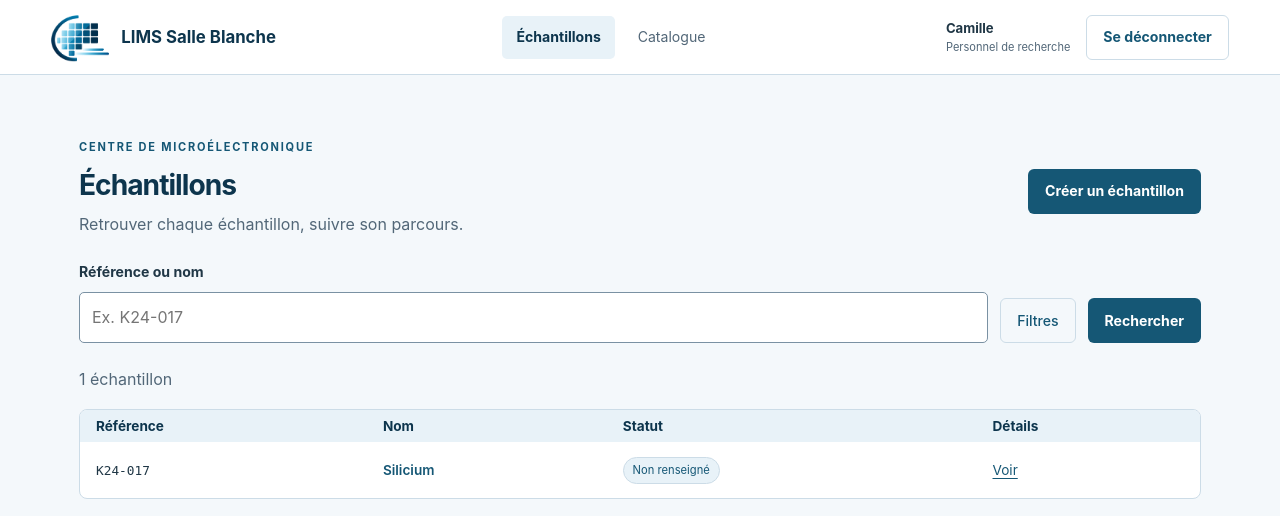
Test case: Gestion des échantillons via le client HTTP authentifié › envoie q encodé, conserve la recherche dans URL et permet de l’effacer
Type " K24 & silicium " into the search field labelled "Référence ou nom". click: coordinates (534, 318)
box: [79,292,988,344]
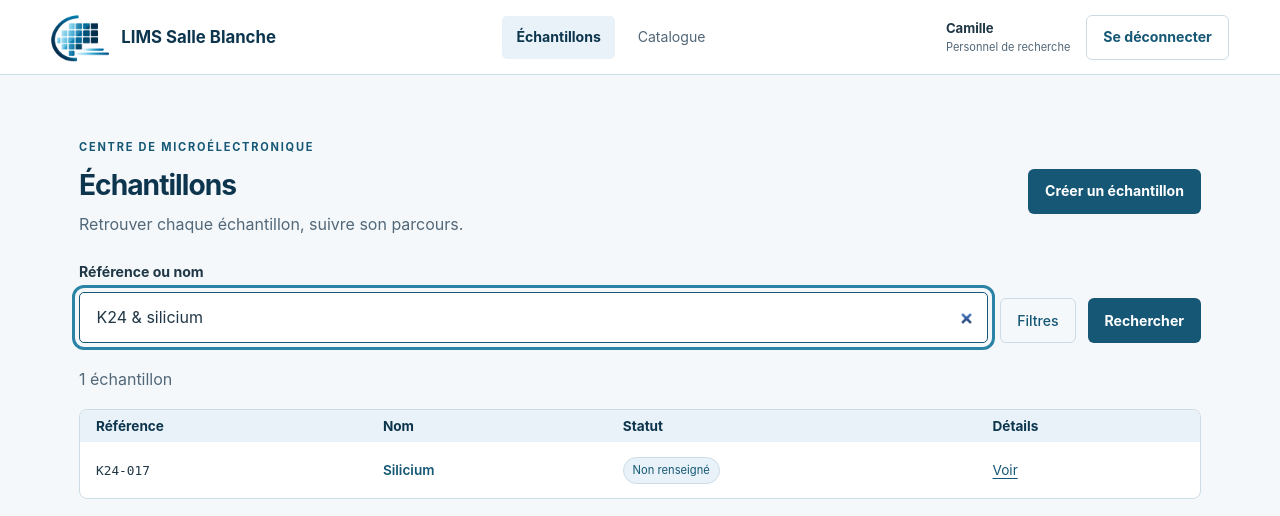
Click the button "Rechercher". click: coordinates (1144, 321)
box: [1088,298,1201,344]
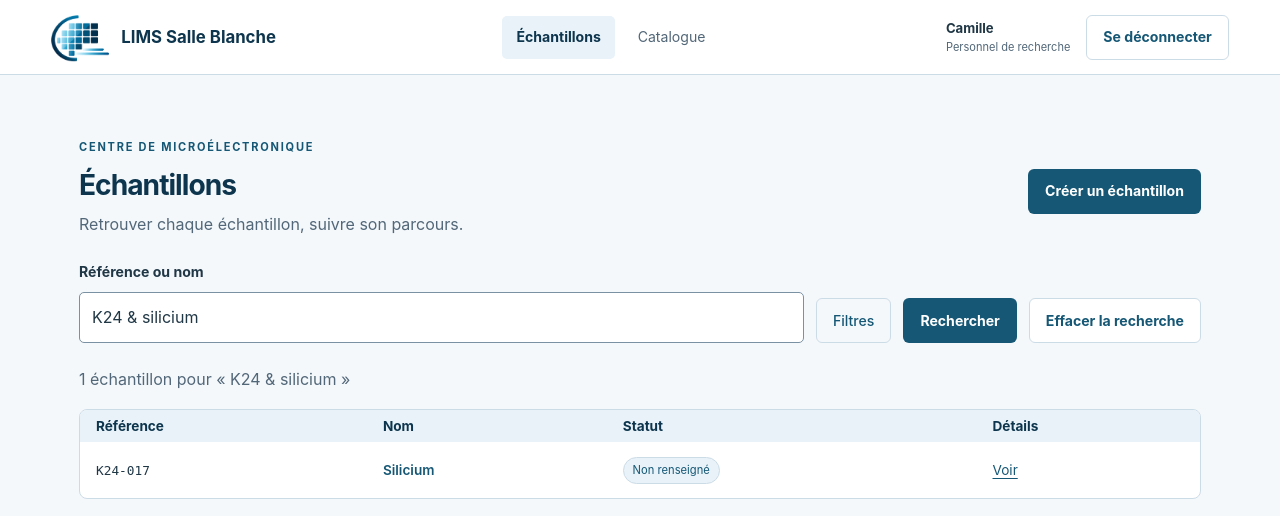
Click the button "Effacer la recherche". click: coordinates (1115, 321)
box: [1029,298,1201,344]
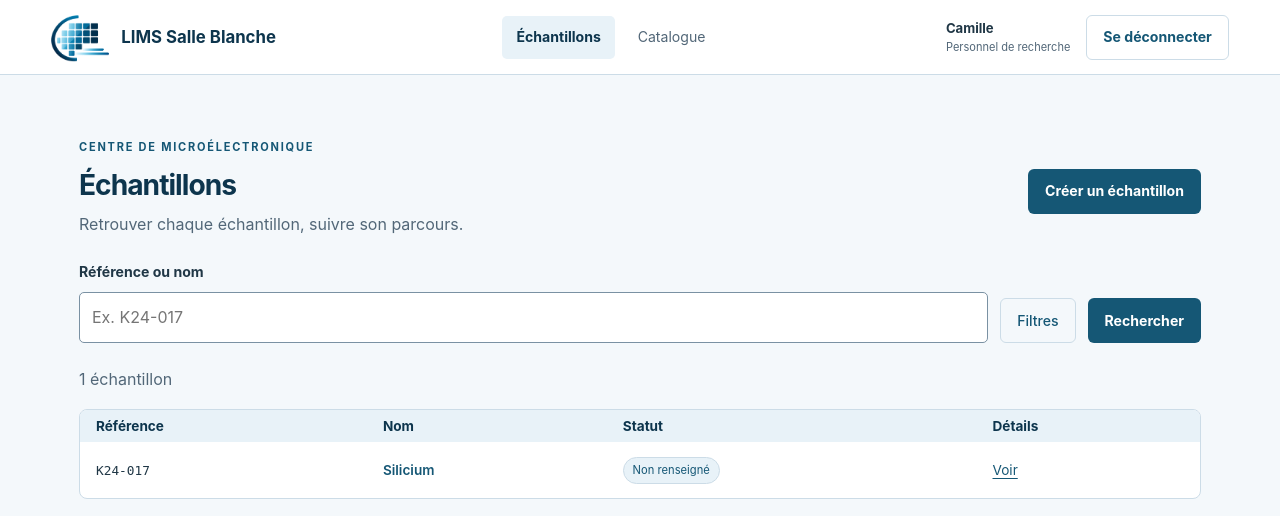
Result: the search field labelled "Référence ou nom" is empty at [79,292,988,344]
